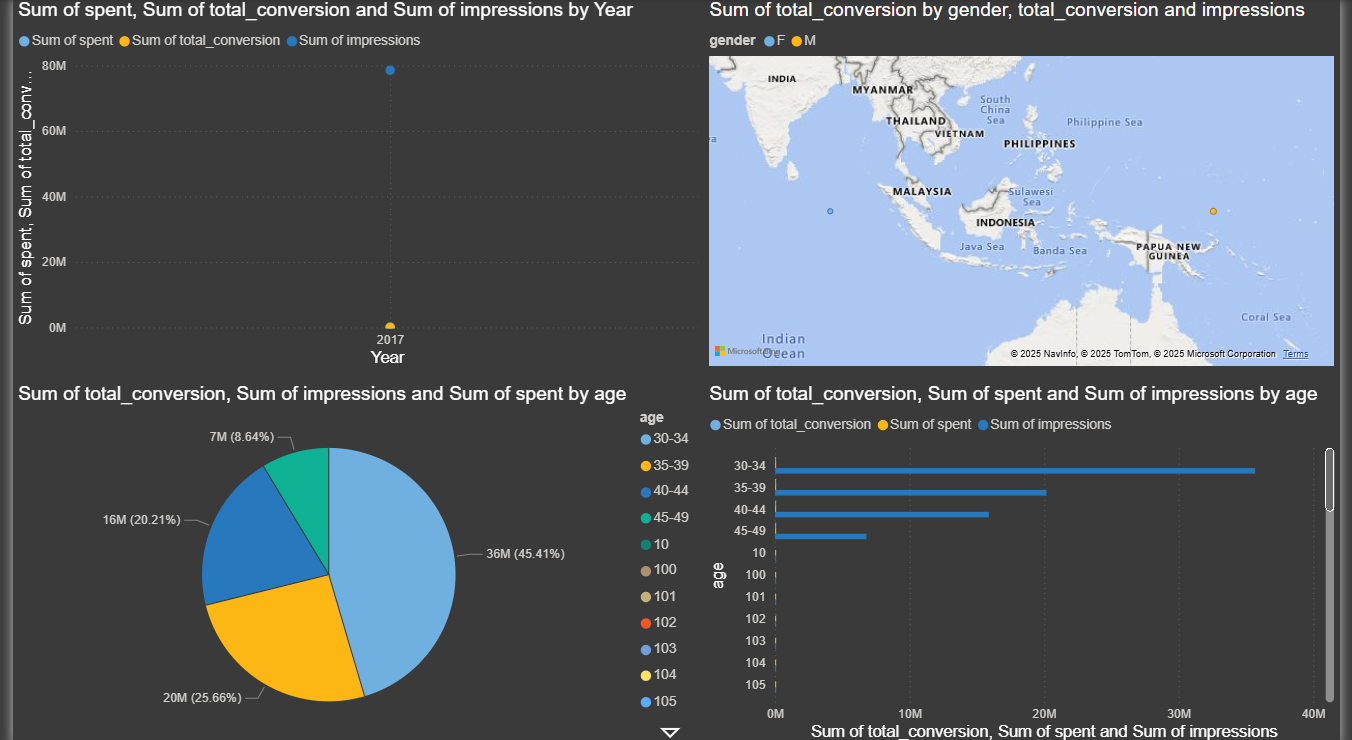

The dashboard page shown, as its layout file describes it:
{"tool":"powerbi","page":{"name":"Page 2","canvas":[1280,720],"ordinal":1},"visuals":[{"type":"lineChart","fields":{"Category":["data.reporting_end.Variation.Date Hierarchy.Year","data.reporting_end.Variation.Date Hierarchy.Quarter","data.reporting_end.Variation.Date Hierarchy.Month","data.reporting_end.Variation.Date Hierarchy.Day","data.reporting_start.Variation.Date Hierarchy.Year","data.reporting_start.Variation.Date Hierarchy.Quarter","data.reporting_start.Variation.Date Hierarchy.Month","data.reporting_start.Variation.Date Hierarchy.Day"],"Y":["Sum(data.spent)","Sum(data.total_conversion)","Sum(data.impressions)"]},"box":[0,0,666.9,359.5],"z":0},{"type":"pieChart","fields":{"Y":["Sum(data.total_conversion)","Sum(data.impressions)","Sum(data.spent)"],"Category":["data.age","data.gender"]},"box":[0,370,667,350],"z":1000},{"type":"map","fields":{"Y":["data.total_conversion"],"X":["data.impressions"],"Size":["Sum(data.total_conversion)"],"Series":["data.gender"]},"box":[666.9,0,613.4,359.5],"z":2000},{"type":"clusteredBarChart","fields":{"Category":["data.age","data.gender","data.campaign_id"],"Y":["Sum(data.total_conversion)","Sum(data.spent)","Sum(data.impressions)"]},"box":[667,370,613,350],"z":3000}]}

Visuals, with their boxes in screenshot pixels (x1, y1, x2, y2), scaled from the page's 1280x720 canvas onto the 1352x740 screenshot:
lineChart - data.reporting_end.Variation.Date Hierarchy.Year x data.reporting_end.Variation.Date Hierarchy.Quarter: select_region(0, 0, 704, 369)
pieChart - Sum(data.total_conversion) x Sum(data.impressions): select_region(0, 380, 705, 739)
map - data.total_conversion x data.impressions: select_region(704, 0, 1351, 369)
clusteredBarChart - data.age x data.gender: select_region(705, 380, 1351, 739)
